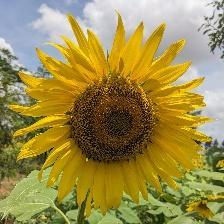sunflower: (42, 48, 195, 197)
